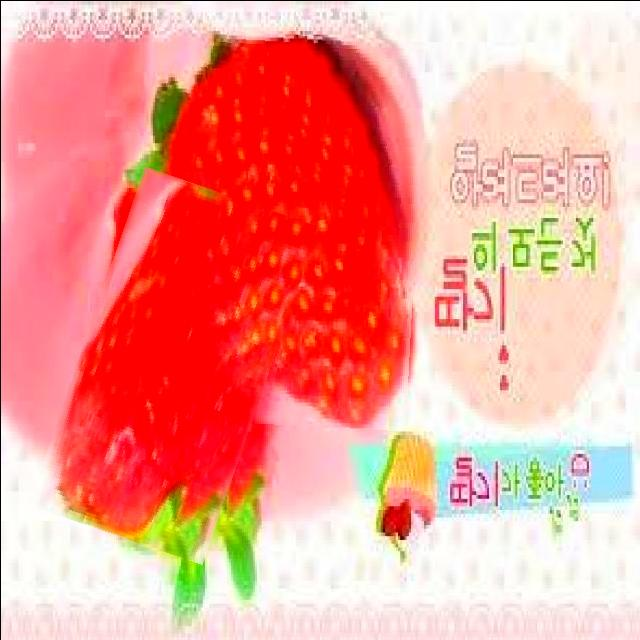strawberry: (154, 31, 420, 427), (55, 176, 292, 554)
